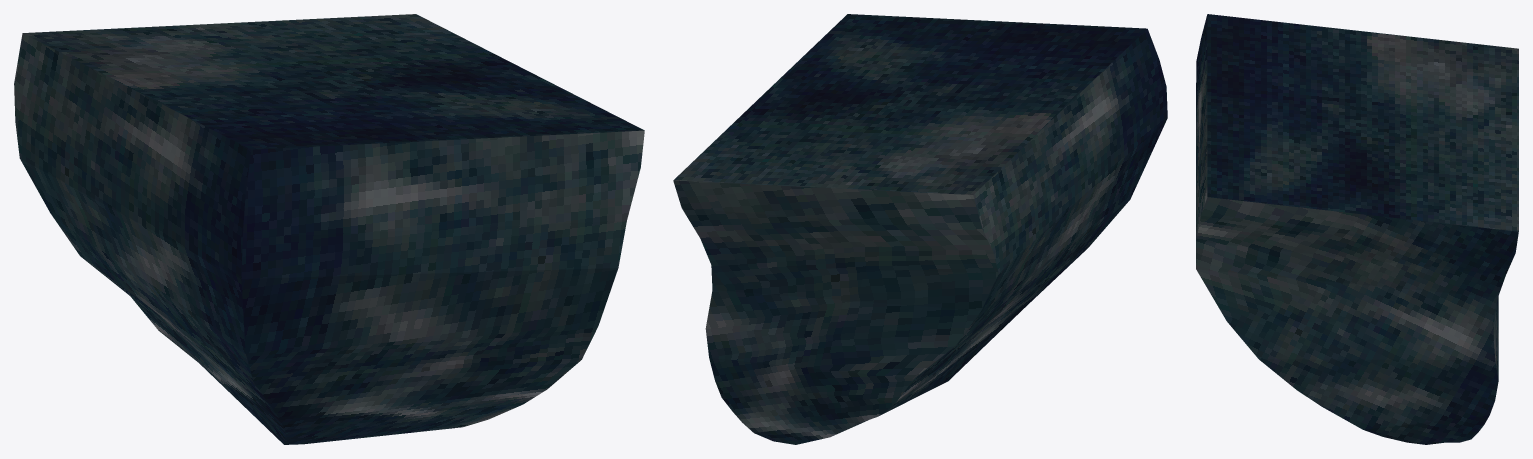
3 renders of one model, left to right at view 1: azimuth 30°, elevation 25°; view 2: azimuth 150°, elevation 25°; view 3: azimuth 270°, elevation 25°, orthographic. The views are drawn at different scales.
Parts seen in each view (by area): view 1: SPLICE_3; view 2: SPLICE_3; view 3: SPLICE_3.
Part boxes in pixels (box(x1,y1,x2,y2)): SPLICE_3: box(14, 14, 644, 444); SPLICE_3: box(673, 14, 1167, 444); SPLICE_3: box(1196, 14, 1518, 444).
Size of the model in its own units: 0.9067 by 1.01 by 0.9043.
Materials: 1 (1 with a texture image).
